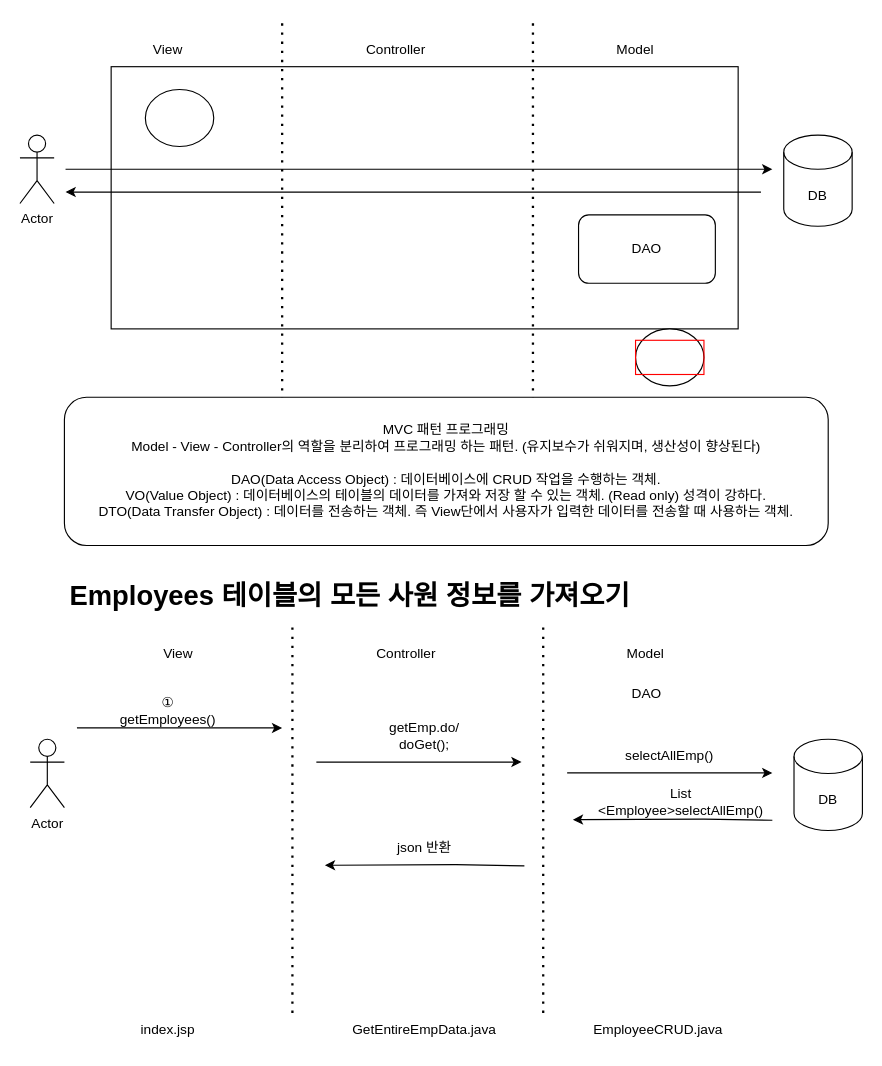
Image size: 882x1066. Some labels were removed from this diagram. The centre of each missing label's shape, as x and y in pixels:
"DTO" goes at (x=179, y=117).
"VO" goes at (x=669, y=356).
